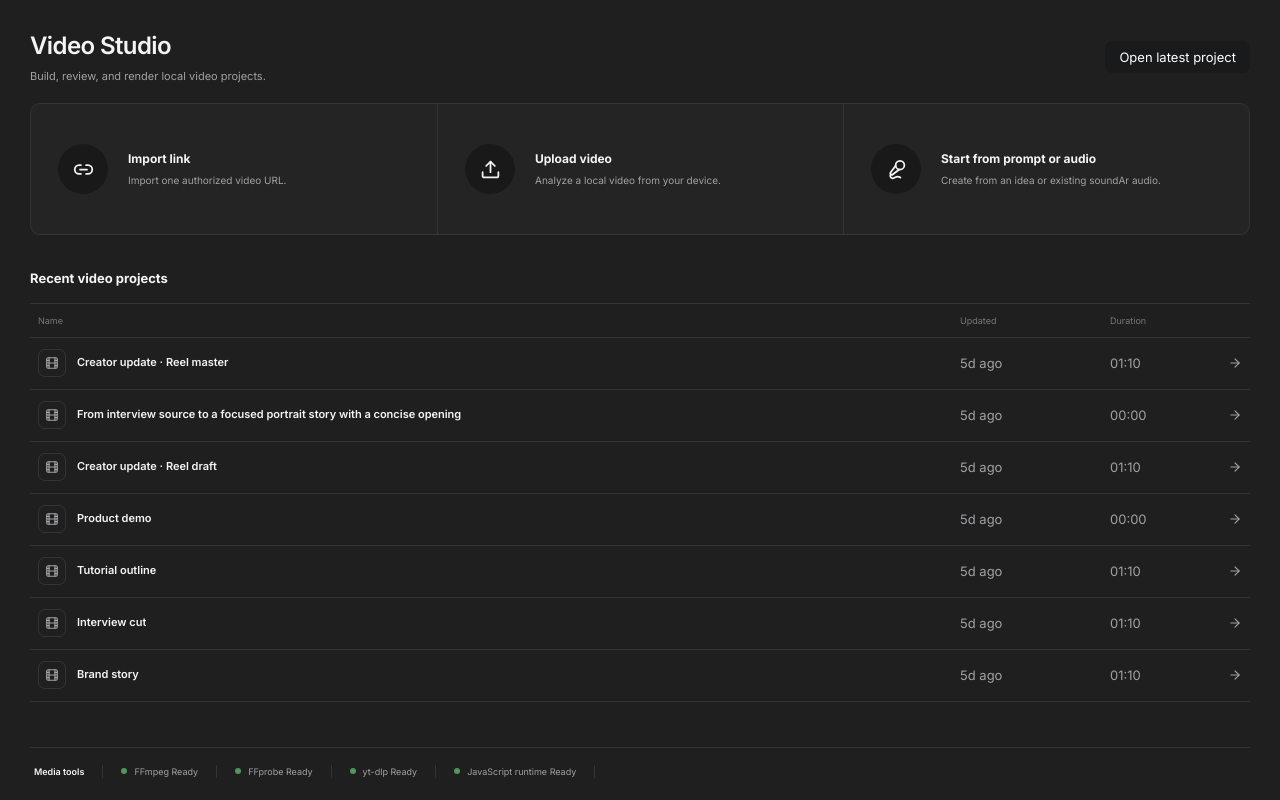
Test: VideoStudioView › routes a stale downstream preview failure back to source analysis
What coordinates should you click on to do the following:
click the button "From interview source to a focused portrait story with a concise opening"
I would click on:
 (269, 414)
Its box is [30,390,1250,442].
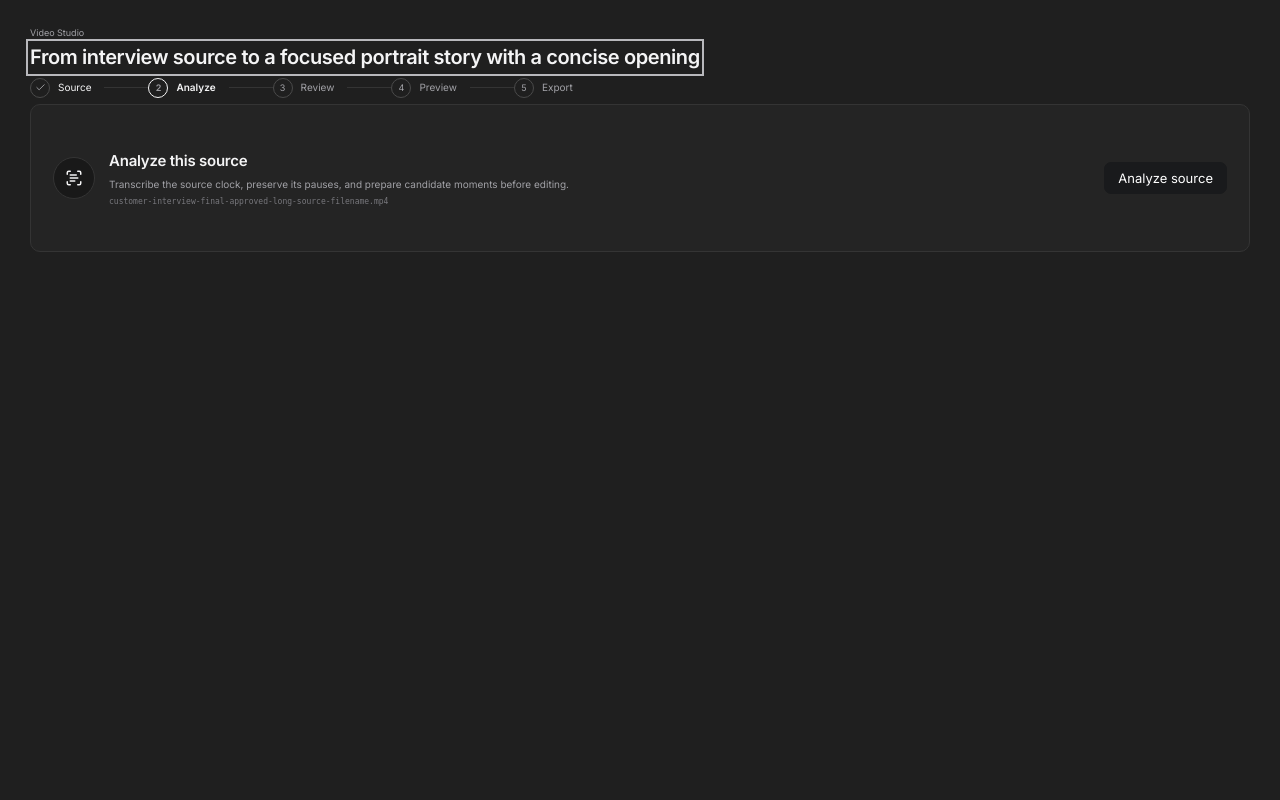
Expected: the button "Analyze source" is enabled, [1104,162,1227,194]
Now the heading "Analyze this source" is shown, box [109,151,247,170]
